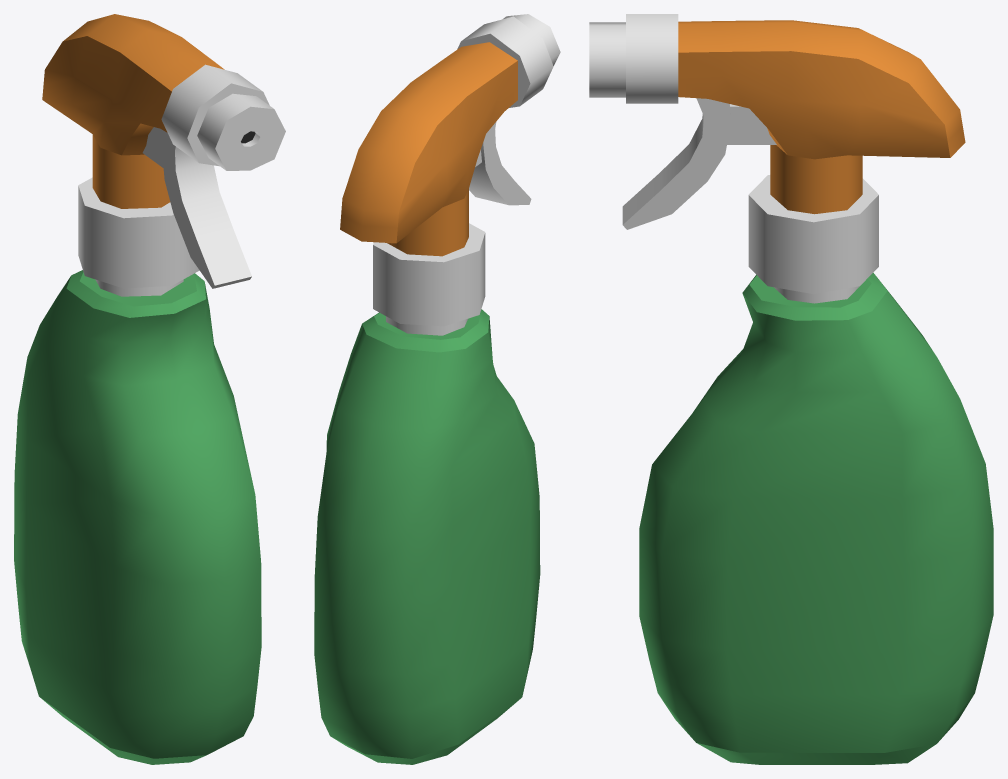
File: Spray_02.fbx
3 views of the same model, side by side, from view 1: azimuth 30°, elevation 25°; view 2: azimuth 150°, elevation 25°; view 3: azimuth 270°, elevation 25° (orthographic). The views are drawn at different scales.
Parts seen in each view (by area): view 1: Spray_02, Spray_02_Top, Spray_02_Trigger; view 2: Spray_02, Spray_02_Top, Spray_02_Trigger; view 3: Spray_02, Spray_02_Top, Spray_02_Trigger.
Boxes of the visible parts, x1=… form: Spray_02: x1=14, y1=270, x2=261, y2=764; Spray_02_Top: x1=42, y1=14, x2=285, y2=288; Spray_02_Trigger: x1=162, y1=130, x2=251, y2=288; Spray_02: x1=314, y1=309, x2=540, y2=764; Spray_02_Top: x1=340, y1=14, x2=560, y2=326; Spray_02_Trigger: x1=469, y1=121, x2=531, y2=205; Spray_02: x1=639, y1=272, x2=993, y2=764; Spray_02_Top: x1=589, y1=14, x2=965, y2=294; Spray_02_Trigger: x1=622, y1=98, x2=730, y2=229.
Size of the model in its own units: 0.072 by 0.3466 by 0.1748.
